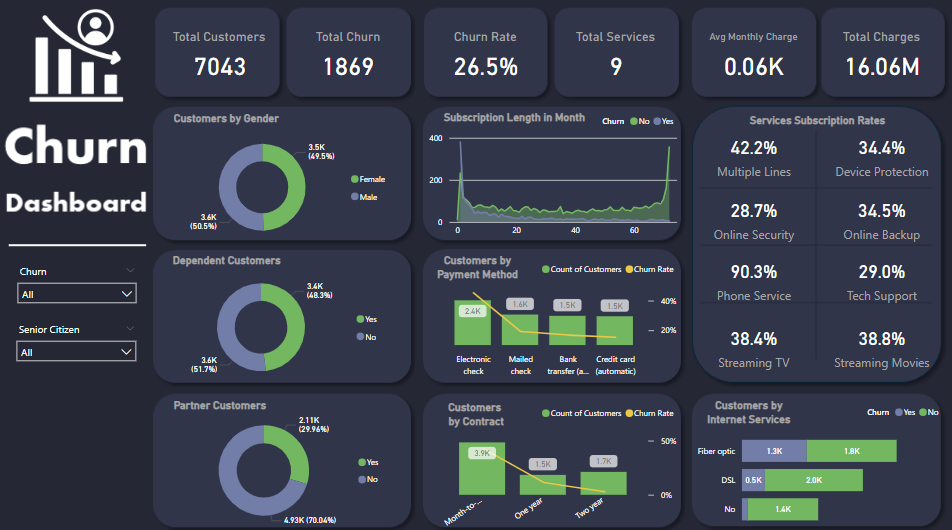

This screenshot's page, from the dashboard's own definition file:
{"tool":"powerbi","page":{"name":"Page 1","canvas":[1280,720],"ordinal":0},"visuals":[{"type":"image","box":[0,0,1280.5,720],"z":0},{"type":"card","title":"Total Customers","fields":{"Values":["Count(01 Churn-Dataset.customerID)"]},"box":[213.7,32.7,170,118],"z":1000},{"type":"donutChart","fields":{"Category":["01 Churn-Dataset.gender"],"Y":["CountNonNull(01 Churn-Dataset.customerID)"]},"box":[232.7,172.7,300,165.4],"z":2000},{"type":"lineClusteredColumnComboChart","fields":{"Category":["01 Churn-Dataset.Contract"],"Y":["CountNonNull(01 Churn-Dataset.customerID)"],"Y2":["01 Churn-Dataset.Churn Rate"]},"box":[570.7,537.1,339.5,182.9],"z":3000},{"type":"lineClusteredColumnComboChart","fields":{"Category":["01 Churn-Dataset.PaymentMethod"],"Y":["CountNonNull(01 Churn-Dataset.customerID)"],"Y2":["01 Churn-Dataset.Churn Rate"]},"box":[570.7,345.4,339.5,168.3],"z":4000},{"type":"barChart","fields":{"Category":["01 Churn-Dataset.InternetService"],"Y":["CountNonNull(01 Churn-Dataset.customerID)"],"Series":["01 Churn-Dataset.Churn"]},"box":[923.4,535.6,339.5,184.4],"z":5000},{"type":"areaChart","fields":{"Category":["01 Churn-Dataset.tenure"],"Y":["CountNonNull(01 Churn-Dataset.customerID)"],"Series":["01 Churn-Dataset.Churn"]},"box":[570.7,149.3,339.5,181.5],"z":6000},{"type":"card","fields":{"Values":["01 Churn-Dataset.Churn Rate"]},"box":[567.8,32.7,169.8,118.5],"z":7000},{"type":"card","fields":{"Values":["CountNonNull(01 Churn-Dataset.Churn)"]},"box":[383.4,32.7,169.8,118.5],"z":8000},{"type":"card","fields":{"Values":["01 Churn-Dataset.Total Services"]},"box":[740.5,32.7,170,118.5],"z":9000},{"type":"card","fields":{"Values":["Avg(01 Churn-Dataset.MonthlyCharges)"]},"box":[923.4,32.7,169.8,118.5],"z":10000},{"type":"card","fields":{"Values":["Sum(01 Churn-Dataset.TotalCharges)"]},"box":[1093.2,32.7,169.8,118.5],"z":11000},{"type":"card","fields":{"Values":["01 Churn-Dataset.Internet Service"]},"box":[923.1,158.3,169.8,108.3],"z":12000},{"type":"card","fields":{"Values":["01 Churn-Dataset.Device Protection"]},"box":[1092.8,158.3,169.8,108.3],"z":13000},{"type":"card","fields":{"Values":["01 Churn-Dataset.Online Backup"]},"box":[1092.8,250.5,169.8,89.3],"z":14000},{"type":"card","fields":{"Values":["01 Churn-Dataset.Online Security"]},"box":[923.1,250.5,169.8,89.3],"z":15000},{"type":"card","fields":{"Values":["01 Churn-Dataset.Phone Service"]},"box":[923.1,339.8,169.8,74.6],"z":16000},{"type":"card","fields":{"Values":["01 Churn-Dataset.Streaming Movies"]},"box":[1092.8,418.8,169.8,95.1],"z":17000},{"type":"card","fields":{"Values":["01 Churn-Dataset.Streaming TV"]},"box":[923.1,418.8,169.8,95.1],"z":18000},{"type":"card","fields":{"Values":["01 Churn-Dataset.Tech Support"]},"box":[1092.8,339.8,169.8,74.6],"z":19000},{"type":"donutChart","fields":{"Y":["CountNonNull(01 Churn-Dataset.customerID)"],"Category":["01 Churn-Dataset.Partner"]},"box":[222.4,358.5,300,165.4],"z":20000},{"type":"donutChart","fields":{"Y":["CountNonNull(01 Churn-Dataset.customerID)"],"Category":["01 Churn-Dataset.Dependents"]},"box":[226.8,545.9,297.1,171.2],"z":21000},{"type":"slicer","fields":{"Values":["01 Churn-Dataset.Churn"]},"box":[19.4,353.9,177.8,91.6],"z":22000},{"type":"textbox","box":[231.2,40,142,35.1],"z":23000},{"type":"textbox","box":[421.5,39.5,108.3,35.1],"z":24000},{"type":"textbox","box":[581,39.5,142,35.1],"z":25000},{"type":"textbox","box":[753.7,40,142,35.1],"z":26000},{"type":"textbox","box":[936.6,40,142,35.1],"z":27000},{"type":"textbox","box":[1106.3,40,142,35.1],"z":28000},{"type":"textbox","box":[232.7,149.3,218,30.7],"z":29000},{"type":"textbox","box":[231.2,338,218,30.7],"z":30000},{"type":"textbox","box":[232.7,529.8,218,30.7],"z":31000},{"type":"textbox","box":[591.2,147.8,218,30.7],"z":32000},{"type":"textbox","box":[575.1,338,131.7,61.5],"z":33000},{"type":"textbox","box":[586.8,532.7,103.9,54.1],"z":34000},{"type":"textbox","box":[910.2,529.8,182.9,61.5],"z":35000},{"type":"slicer","fields":{"Values":["01 Churn-Dataset.SeniorCitizen"]},"box":[19,430.2,178.5,90.7],"z":36000},{"type":"image","box":[20.5,8.8,175.6,142],"z":37000},{"type":"textbox","box":[960.7,151.4,264.3,55.1],"z":37001}]}

Visuals, with their boxes in screenshot pixels (x1, y1, x2, y2), scaled from the page's 1280x720 canvas onto the 952x530 screenshot:
image: bbox=[0, 0, 951, 529]
"Total Customers" card: bbox=[159, 24, 285, 111]
donutChart - 01 Churn-Dataset.gender x CountNonNull(01 Churn-Dataset.customerID): bbox=[173, 127, 396, 249]
lineClusteredColumnComboChart - 01 Churn-Dataset.Contract x CountNonNull(01 Churn-Dataset.customerID): bbox=[424, 395, 677, 529]
lineClusteredColumnComboChart - 01 Churn-Dataset.PaymentMethod x CountNonNull(01 Churn-Dataset.customerID): bbox=[424, 254, 677, 378]
barChart - 01 Churn-Dataset.InternetService x CountNonNull(01 Churn-Dataset.customerID): bbox=[687, 394, 939, 529]
areaChart - 01 Churn-Dataset.tenure x CountNonNull(01 Churn-Dataset.customerID): bbox=[424, 110, 677, 244]
card - 01 Churn-Dataset.Churn Rate: bbox=[422, 24, 549, 111]
card - CountNonNull(01 Churn-Dataset.Churn): bbox=[285, 24, 411, 111]
card - 01 Churn-Dataset.Total Services: bbox=[551, 24, 677, 111]
card - Avg(01 Churn-Dataset.MonthlyCharges): bbox=[687, 24, 813, 111]
card - Sum(01 Churn-Dataset.TotalCharges): bbox=[813, 24, 939, 111]
card - 01 Churn-Dataset.Internet Service: bbox=[687, 117, 813, 196]
card - 01 Churn-Dataset.Device Protection: bbox=[813, 117, 939, 196]
card - 01 Churn-Dataset.Online Backup: bbox=[813, 184, 939, 250]
card - 01 Churn-Dataset.Online Security: bbox=[687, 184, 813, 250]
card - 01 Churn-Dataset.Phone Service: bbox=[687, 250, 813, 305]
card - 01 Churn-Dataset.Streaming Movies: bbox=[813, 308, 939, 378]
card - 01 Churn-Dataset.Streaming TV: bbox=[687, 308, 813, 378]
card - 01 Churn-Dataset.Tech Support: bbox=[813, 250, 939, 305]
donutChart - CountNonNull(01 Churn-Dataset.customerID) x 01 Churn-Dataset.Partner: bbox=[165, 264, 389, 386]
donutChart - CountNonNull(01 Churn-Dataset.customerID) x 01 Churn-Dataset.Dependents: bbox=[169, 402, 390, 528]
slicer - 01 Churn-Dataset.Churn: bbox=[14, 261, 147, 328]
textbox: bbox=[172, 29, 278, 55]
textbox: bbox=[313, 29, 394, 55]
textbox: bbox=[432, 29, 538, 55]
textbox: bbox=[561, 29, 666, 55]
textbox: bbox=[697, 29, 802, 55]
textbox: bbox=[823, 29, 928, 55]
textbox: bbox=[173, 110, 335, 132]
textbox: bbox=[172, 249, 334, 271]
textbox: bbox=[173, 390, 335, 413]
textbox: bbox=[440, 109, 602, 131]
textbox: bbox=[428, 249, 526, 294]
textbox: bbox=[436, 392, 514, 432]
textbox: bbox=[677, 390, 813, 435]
slicer - 01 Churn-Dataset.SeniorCitizen: bbox=[14, 317, 147, 383]
image: bbox=[15, 6, 146, 111]
textbox: bbox=[715, 111, 911, 152]
